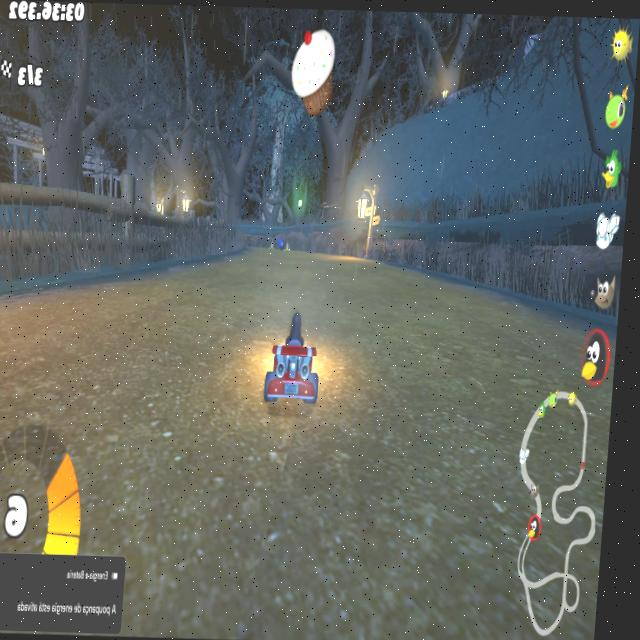player_kart: (262, 314, 335, 419)
track: (342, 275, 516, 620), (0, 289, 251, 425), (230, 245, 360, 306)
